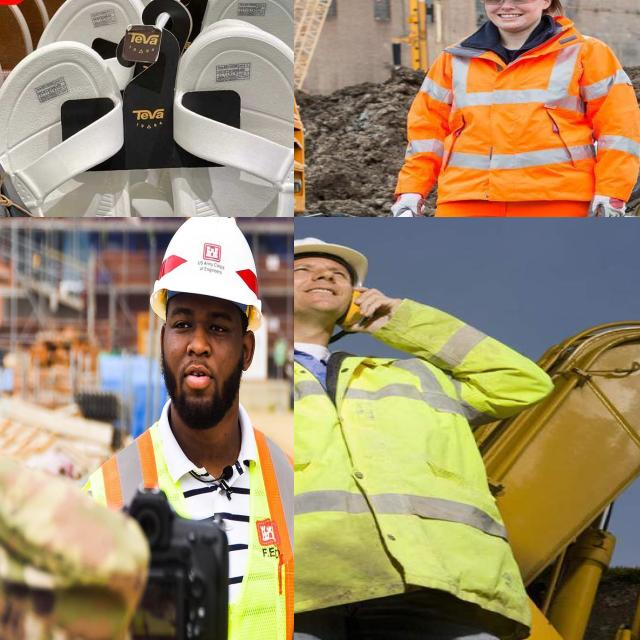No_Ear-Protection: (239, 326, 258, 377)
No_Glasses: (168, 300, 236, 350)
Sandals: (0, 16, 294, 217), (0, 34, 117, 217)
face_nomask: (294, 251, 358, 321), (478, 0, 535, 39)
glasses: (478, 0, 545, 6)
hand_glove: (379, 180, 444, 217), (584, 188, 640, 217)
hand_noglove: (350, 288, 414, 330)
head_helmet: (294, 217, 369, 263)
person: (294, 226, 583, 640), (380, 0, 640, 217)
vest: (294, 331, 562, 640), (403, 25, 640, 200)
